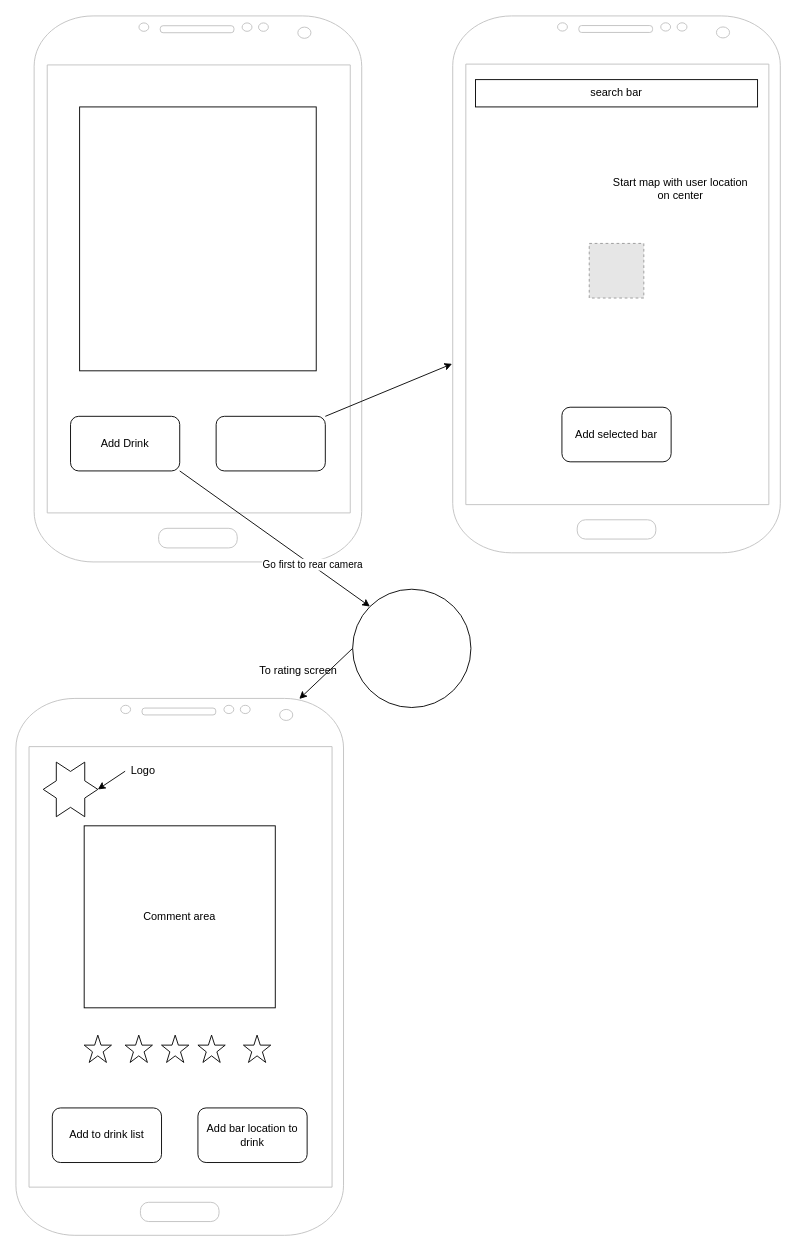
The diagram is 796 pixels wide and 1251 high, and some of its shapes have lost their labels. Grey dashed boxes stand in for pictures. Each missing label, with the box of its shape:
A scrollable screen with previously added drinks: (79, 106, 316, 371)
Add Bar: (215, 415, 325, 471)
Confirm the captured picture is acceptable to user: (352, 588, 471, 708)
